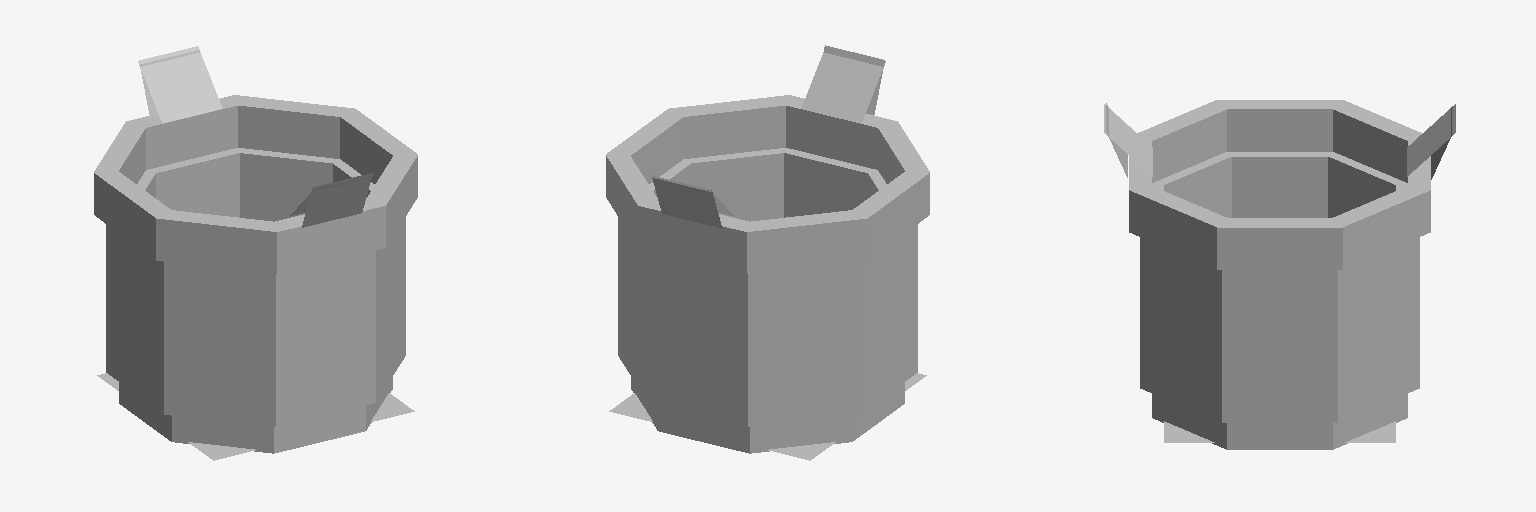
Rendered from old_basket.obj.
3 views of the same model, side by side, from view 1: azimuth 30°, elevation 25°; view 2: azimuth 150°, elevation 25°; view 3: azimuth 270°, elevation 25° (orthographic).
Parts seen in each view (by area): view 1: tube.000, tube, tube.001, Element.005, Element.008, plane; view 2: tube.000, tube, tube.001, Element.007, Element.006, plane, Element.008; view 3: tube.000, tube, tube.001, Element.005, Element.007, plane.
Boxes of the visible parts, x1=… form: tube.000: x1=106, y1=148, x2=405, y2=426; tube: x1=94, y1=95, x2=417, y2=273; tube.001: x1=119, y1=377, x2=392, y2=453; Element.005: x1=138, y1=46, x2=222, y2=123; Element.008: x1=302, y1=173, x2=372, y2=227; plane: x1=97, y1=373, x2=414, y2=460; tube.000: x1=618, y1=148, x2=917, y2=426; tube: x1=606, y1=95, x2=929, y2=273; tube.001: x1=631, y1=377, x2=904, y2=453; Element.007: x1=801, y1=52, x2=885, y2=123; Element.006: x1=652, y1=178, x2=722, y2=228; plane: x1=609, y1=373, x2=926, y2=460; Element.008: x1=824, y1=45, x2=884, y2=114; tube.000: x1=1140, y1=152, x2=1419, y2=422; tube: x1=1129, y1=100, x2=1430, y2=269; tube.001: x1=1152, y1=394, x2=1407, y2=449; Element.005: x1=1407, y1=104, x2=1455, y2=176; Element.007: x1=1104, y1=104, x2=1152, y2=176; plane: x1=1164, y1=421, x2=1395, y2=442.
Size of the model in its own units: 0.8125 by 0.8274 by 0.9458.